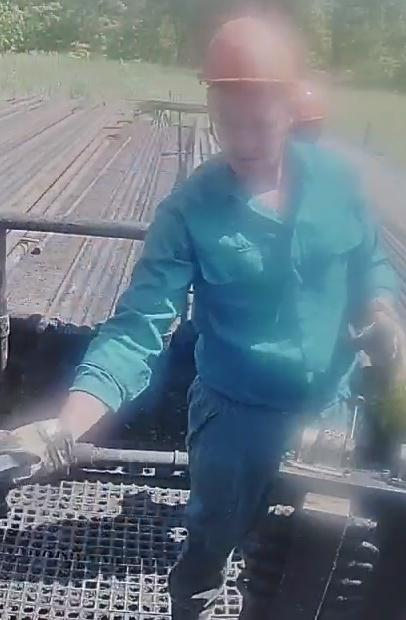gloves: (0, 409, 95, 488), (347, 294, 401, 380)
helmet: (196, 12, 305, 94)
vest: (157, 141, 386, 416)
